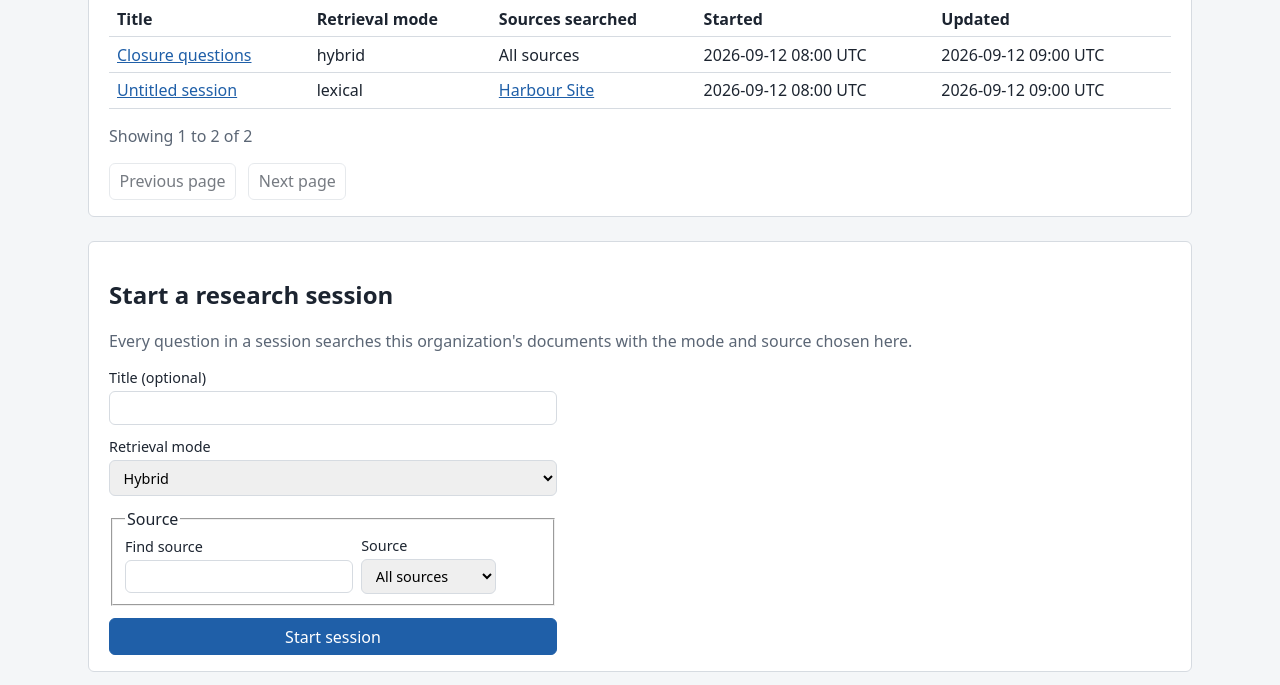
Test case: research sessions › shows a refused start
(page scrolled)
Click the button "Start session".
click(333, 637)  # box x1=109 y1=618 x2=557 y2=655
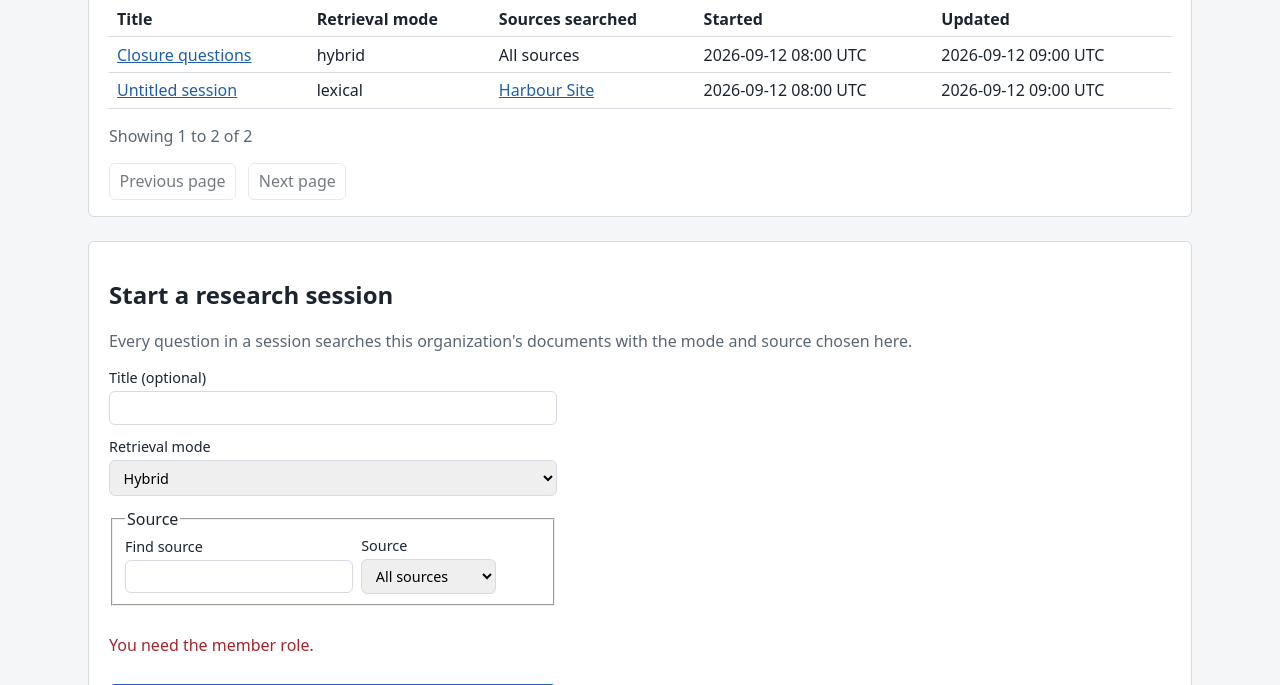
expect the message reads "You need the member role.": met, box x1=109 y1=634 x2=314 y2=656
